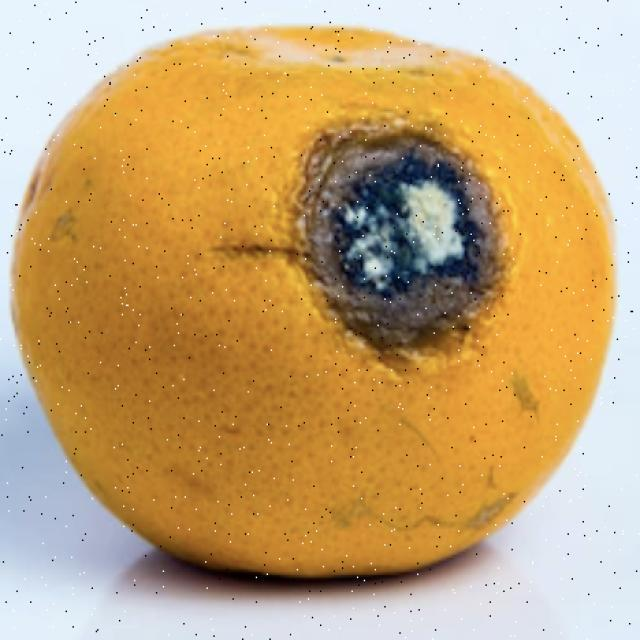sedikit-busuk: (13, 27, 614, 575), (297, 124, 502, 348)
